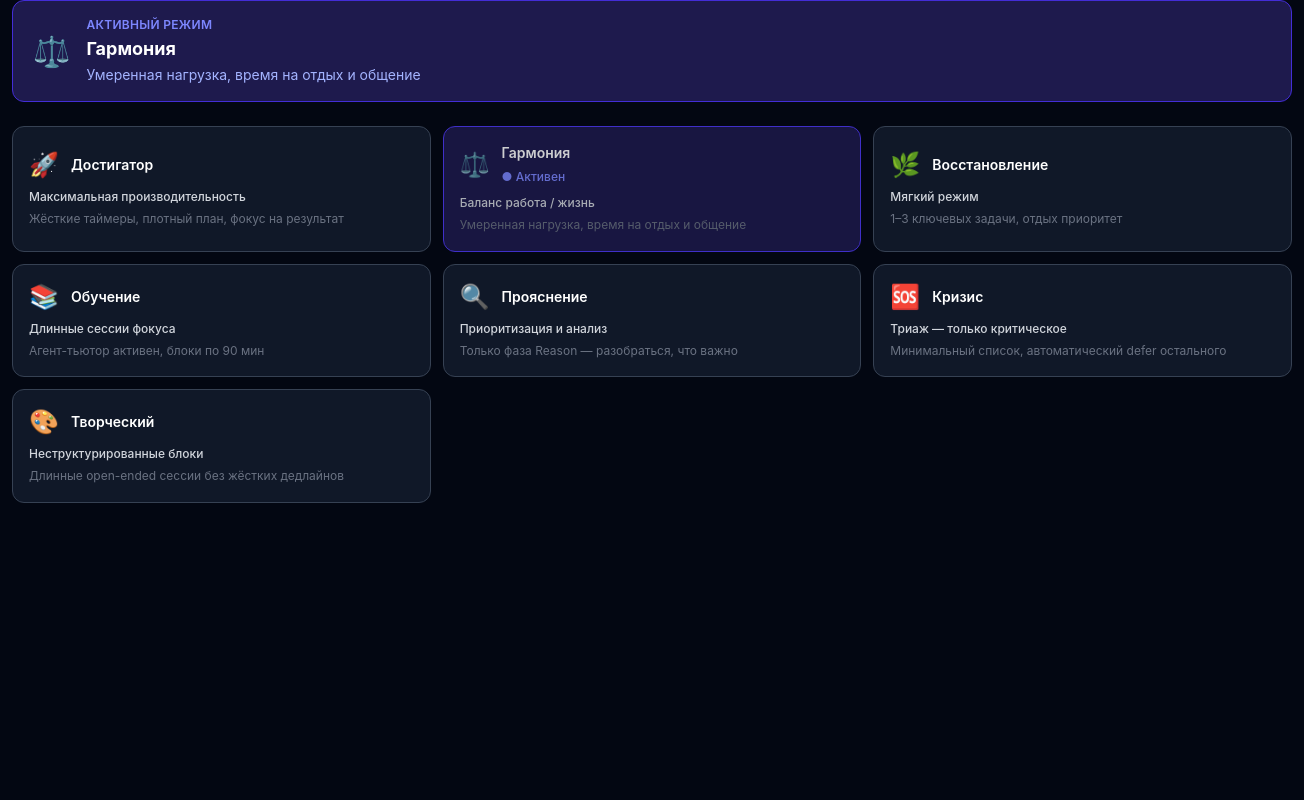
Test case: ModeSwitcher › clicking a non-active mode shows confirm panel
The image size is (1304, 800).
// Click on "Достигатор" (not current mode)
Click the text "Достигатор": (112, 164) [71, 156, 153, 173]
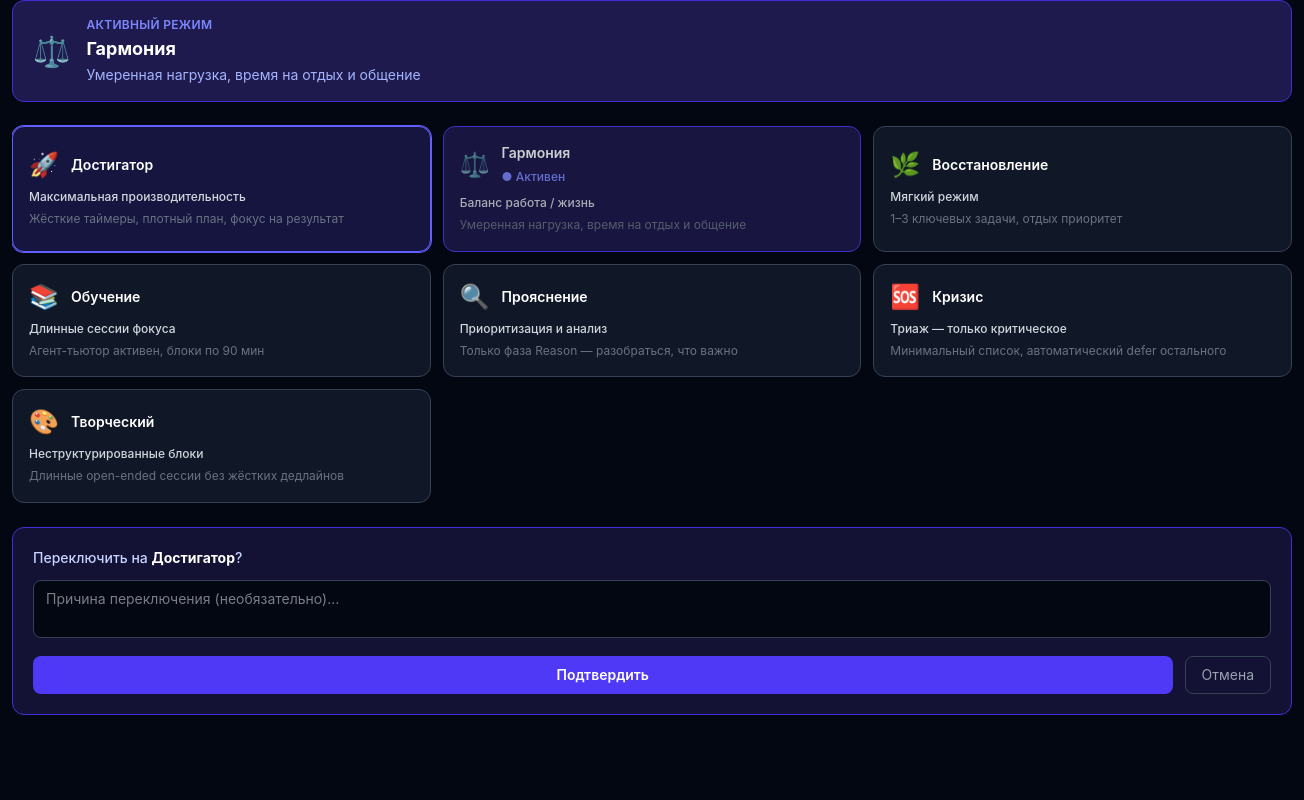
Expected: the text "Переключить на Достигатор?" is shown, [33, 548, 242, 566]
Expected: the button "Подтвердить" is shown, [33, 656, 1172, 694]
Expected: the button "Отмена" is shown, [1184, 656, 1271, 694]
